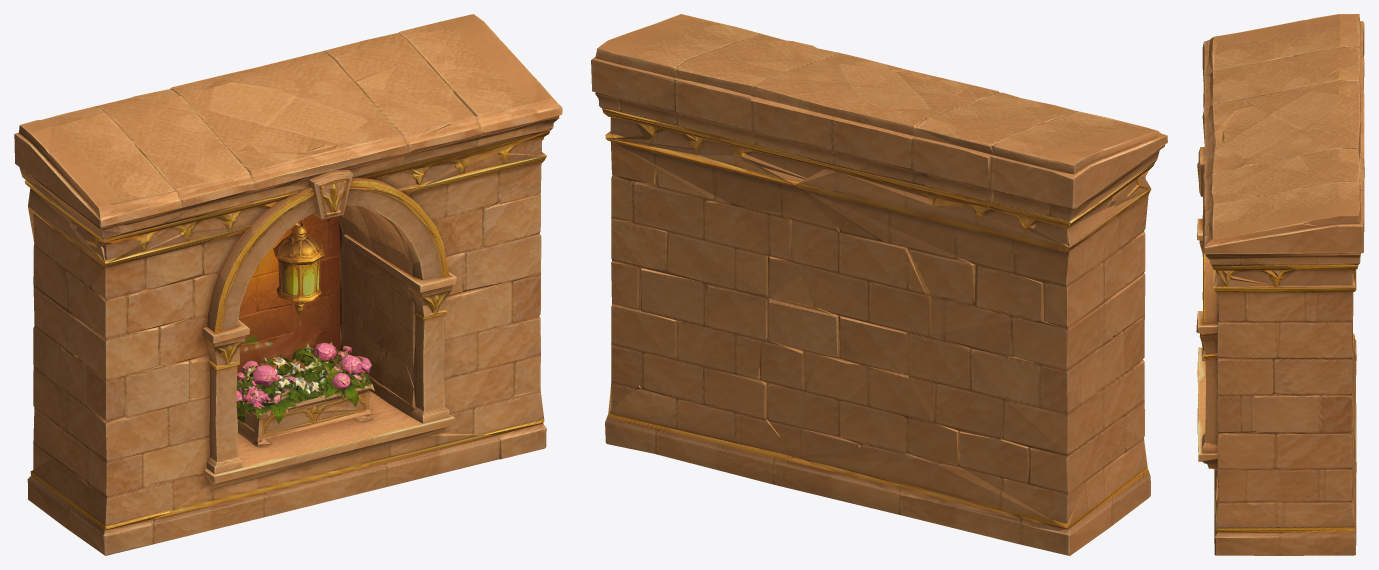
Rendered from niche-v2.glb.
The picture shows the model from 3 angles, left to right: view 1: azimuth 30°, elevation 25°; view 2: azimuth 150°, elevation 25°; view 3: azimuth 270°, elevation 25°; orthographic projection. The views are drawn at different scales.
Parts seen in each view (by area): view 1: Mesh_0; view 2: Mesh_0; view 3: Mesh_0.
Boxes of the visible parts, box(x1,y1,x2,y2) form: Mesh_0: box(14, 14, 562, 555); Mesh_0: box(591, 14, 1167, 555); Mesh_0: box(1196, 14, 1364, 555).
Size of the model in its own units: 1.9 by 1.48 by 0.6543.
Materials: 1 (1 with a texture image).
